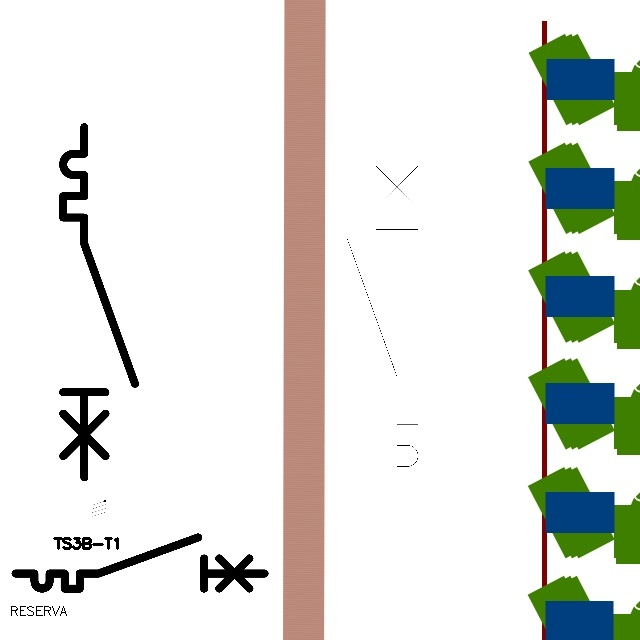interruptor_termomagnetico: (54, 118, 144, 486), (338, 136, 427, 502), (9, 531, 271, 595)
